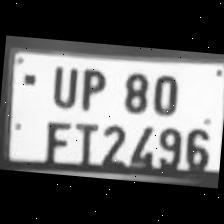0: (146, 68, 184, 117)
2: (95, 118, 128, 168)
4: (123, 119, 156, 170)
6: (180, 122, 214, 173)
8: (117, 68, 153, 116)
9: (151, 123, 183, 171)
F: (38, 115, 72, 167)
P: (74, 62, 110, 114)
T: (67, 118, 99, 168)
U: (46, 60, 80, 111)
